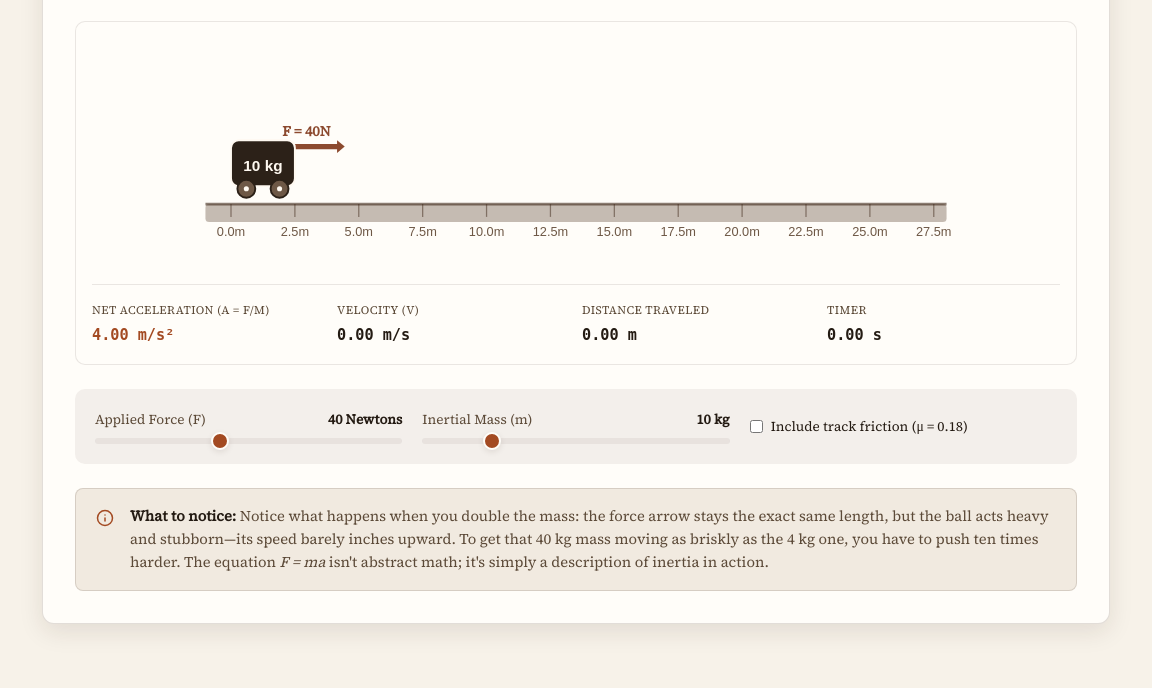
Physics simulations › the Newton sim shows live F=ma numbers from the two sliders
(page scrolled)
Set the slider named "inertial mass" to "4" at {"x": 446, "y": 441}, box [422,438,730,444]
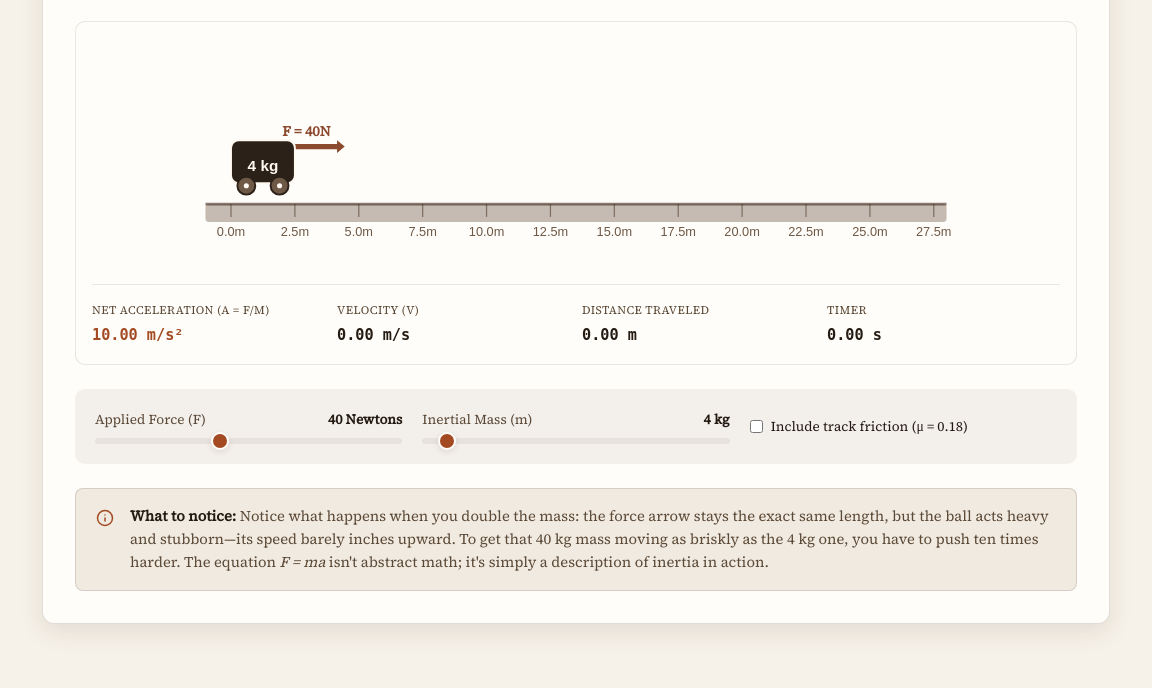
Set the slider named "applied force" to "20" at {"x": 161, "y": 441}, box [95,438,402,444]
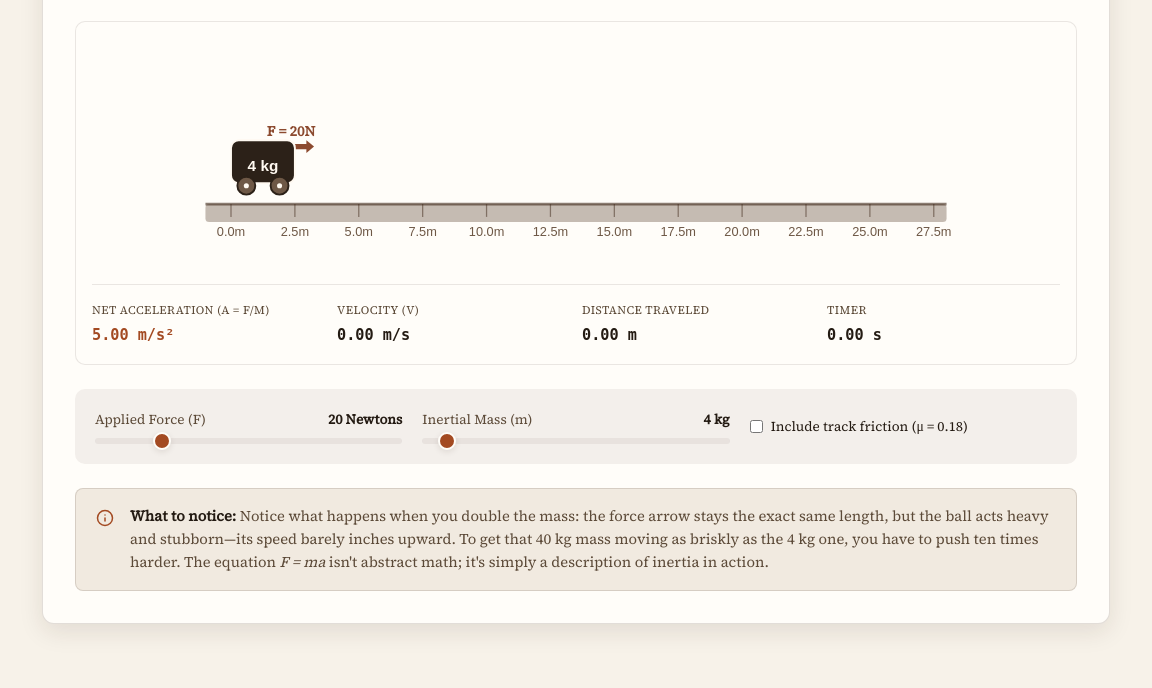
Check: the text "5.00 m/s²" is shown, box [92,326,174,344]
